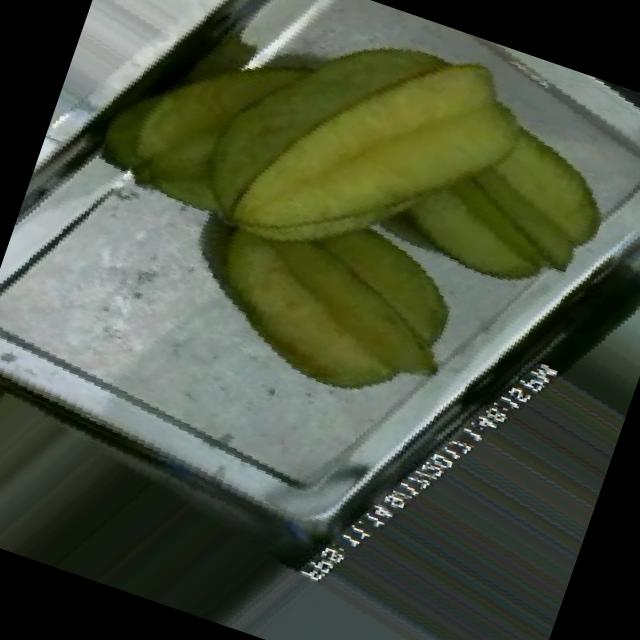fruit: (104, 0, 569, 370), (138, 134, 516, 463), (268, 304, 634, 640), (334, 40, 640, 350)
